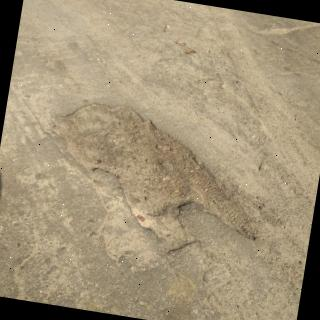pothole: (51, 103, 259, 257)
